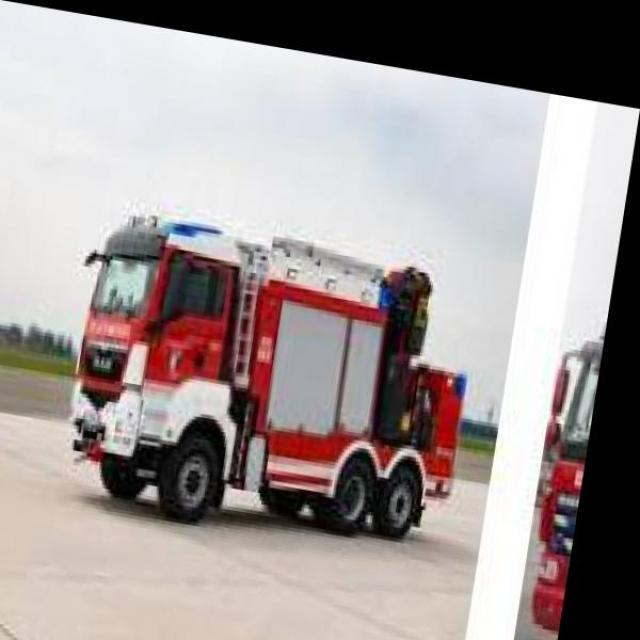emergency: (69, 211, 467, 539)
